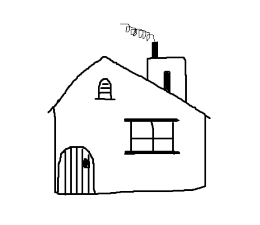closed_window: (116, 112, 185, 163)
door: (55, 140, 104, 195)
single_line_roof: (37, 53, 213, 115)
smoking_chimney: (118, 14, 169, 61)
wall: (45, 107, 208, 199)
